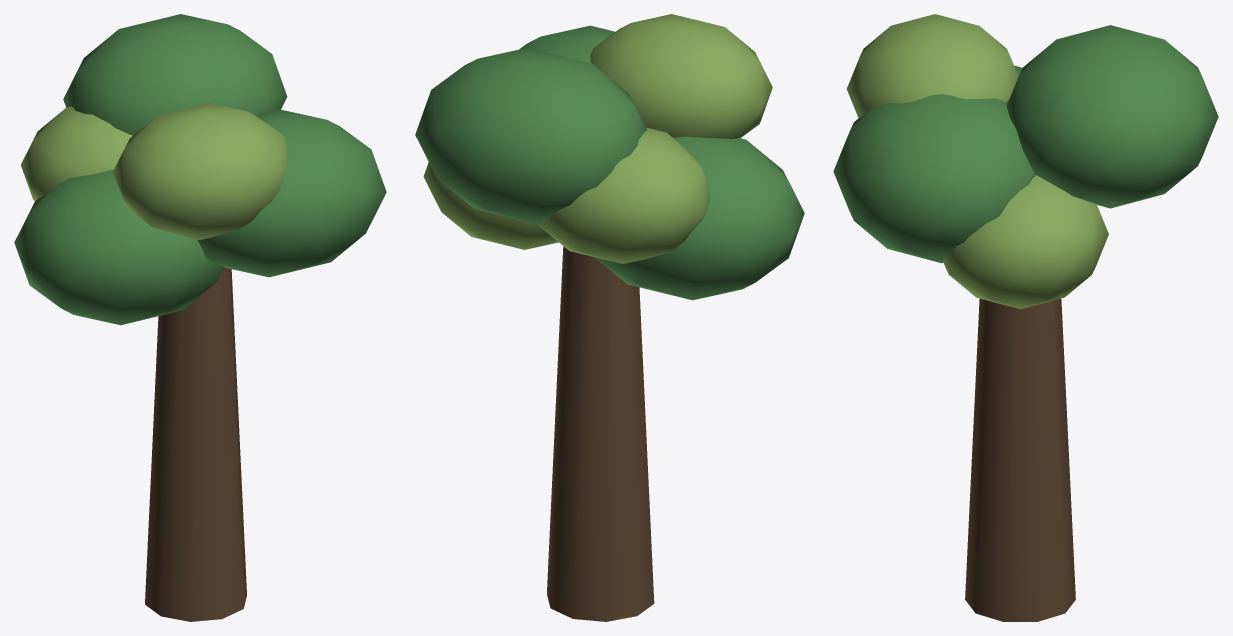
Rendered from sacred_stump.glb.
The picture shows the model from 3 angles, left to right: view 1: azimuth 30°, elevation 25°; view 2: azimuth 150°, elevation 25°; view 3: azimuth 270°, elevation 25°; orthographic projection. The views are drawn at different scales.
Visible parts, largest first — view 1: trunk, crown_3, crown_2, crown_5, crown_1, crown_4; view 2: trunk, crown_5, crown_3, crown_2, crown_4, crown_0, crown_1; view 3: trunk, crown_5, crown_1, crown_0, crown_2.
Part boxes in pixels (x1,y1,x2,y2): trunk: (145,268,246,621); crown_3: (14,169,224,325); crown_2: (112,103,287,239); crown_5: (63,14,287,135); crown_1: (197,109,386,277); crown_4: (21,106,132,200); trunk: (547,246,654,621); crown_5: (415,48,647,224); crown_3: (595,136,804,300); crown_2: (590,14,772,138); crown_4: (538,127,709,263); crown_0: (423,162,558,249); crown_1: (519,25,615,63); trunk: (965,99,1075,621); crown_5: (1006,25,1218,208); crown_1: (833,94,1035,263); crown_0: (943,175,1108,309); crown_2: (847,14,1018,118).
Size of what is drawn, in the model's own units: 4.59 by 7.03 by 4.31.
